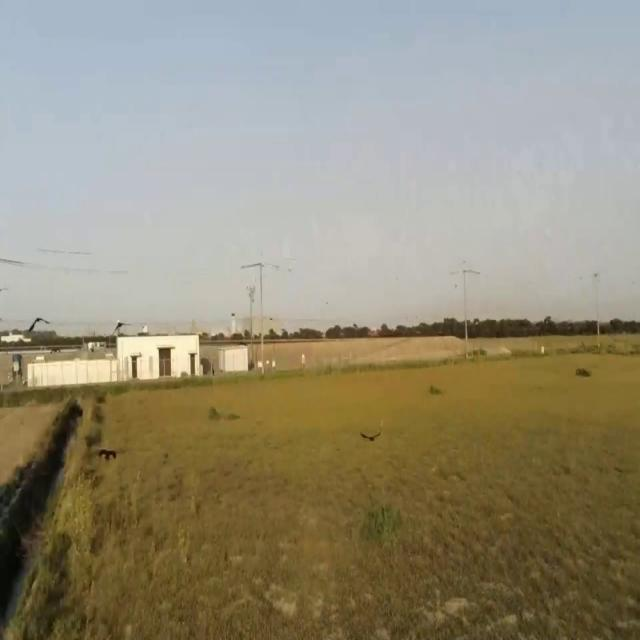bird: (360, 420, 381, 450), (98, 441, 118, 468)
